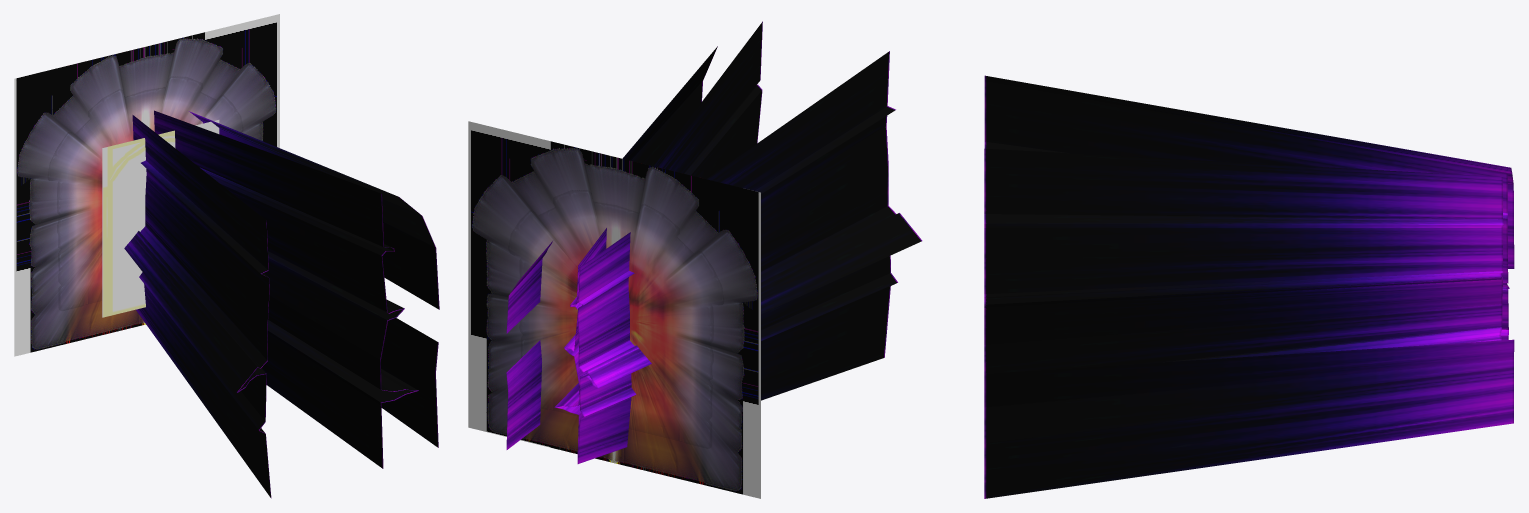
File: Door_3_effect_1.FBX
3 views of the same model, side by side, from view 1: azimuth 30°, elevation 25°; view 2: azimuth 150°, elevation 25°; view 3: azimuth 270°, elevation 25° (orthographic). The views are drawn at different scales.
Parts seen in each view (by area): view 1: Door_3_effect_4, Door_3_effect_1, Door_3_effect_2; view 2: Door_3_effect_1, Door_3_effect_4; view 3: Door_3_effect_4.
Part boxes in pixels (box(x1,y1,x2,y2)): Door_3_effect_4: box(124, 110, 439, 498); Door_3_effect_1: box(14, 14, 279, 356); Door_3_effect_2: box(102, 120, 219, 317); Door_3_effect_1: box(468, 121, 760, 498); Door_3_effect_4: box(506, 21, 922, 463); Door_3_effect_4: box(984, 75, 1514, 498).
Bounding box in the file's own units: 569 × 620 × 832.
Materials: 4 (4 with a texture image).
